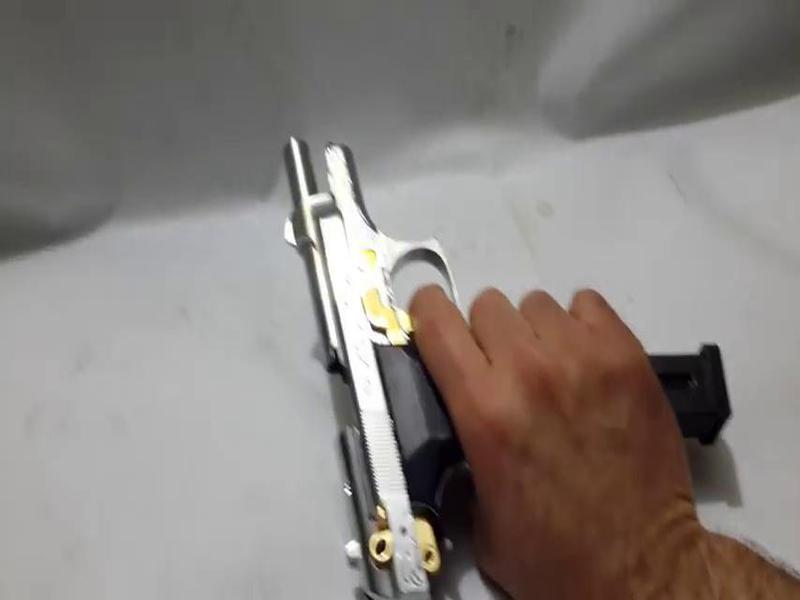Pistola: (272, 122, 571, 600)
